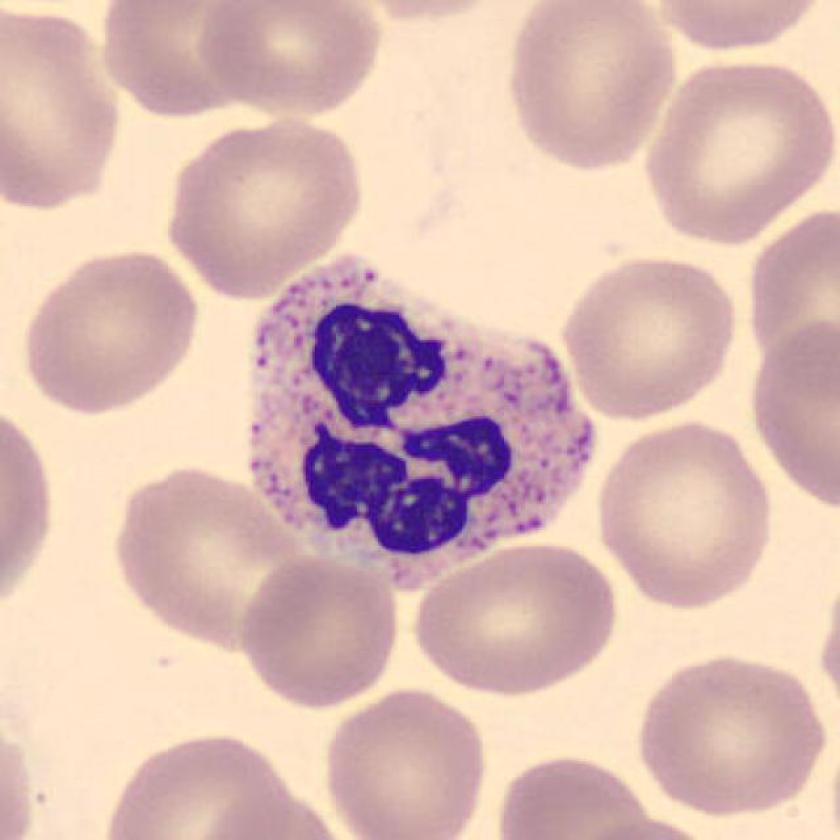neutrophil: (249, 255, 594, 596)
